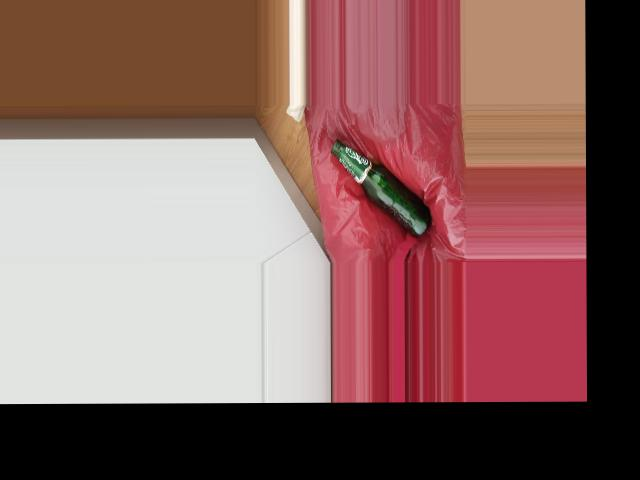beer: (331, 138, 431, 236)
